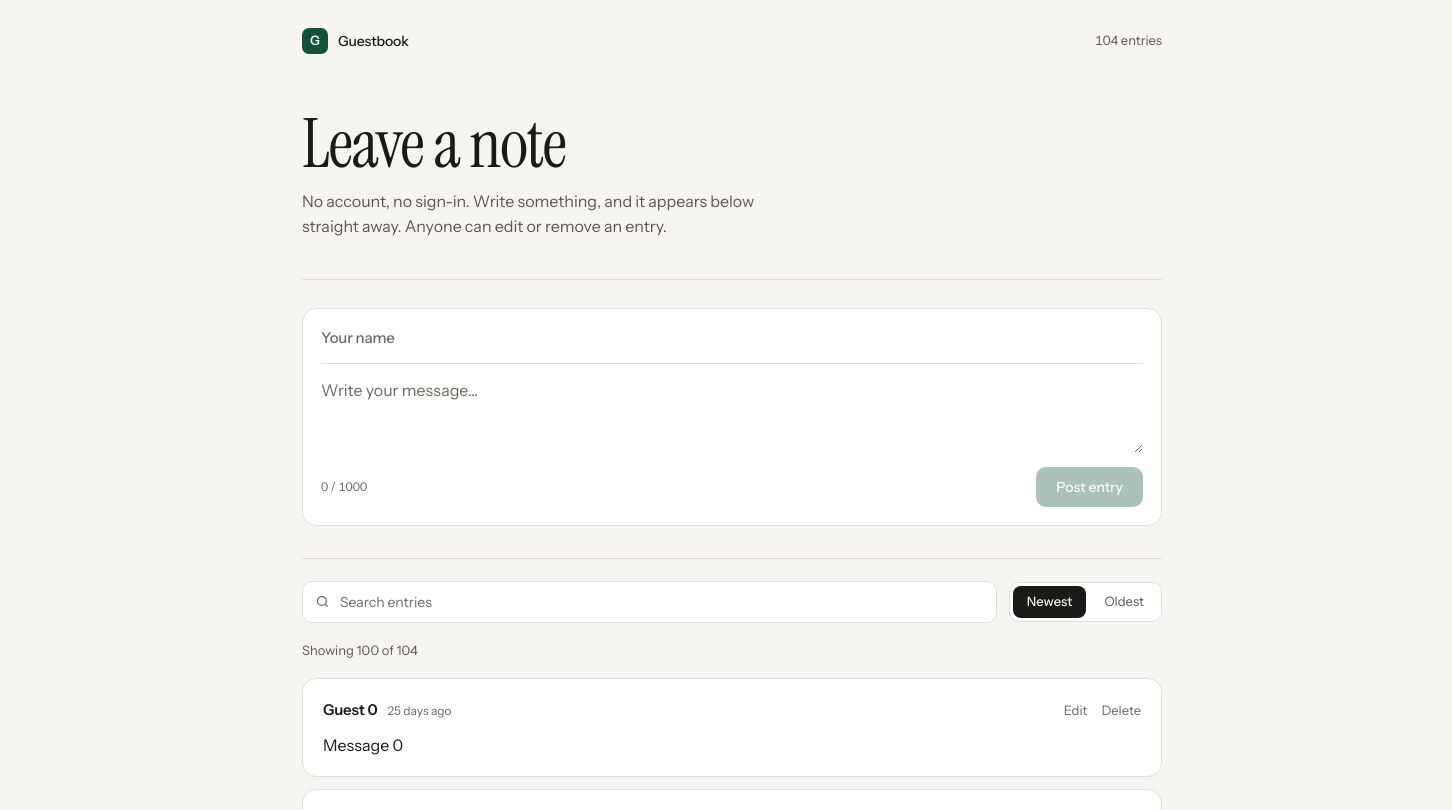
Test: past the ceiling on one request › starts the piece over when the question changes halfway down [req:CR-2609-9b1e/R-6]
Click the button "Oldest". click: (1124, 602)
box: [1090,586,1158,618]
(page scrolled)
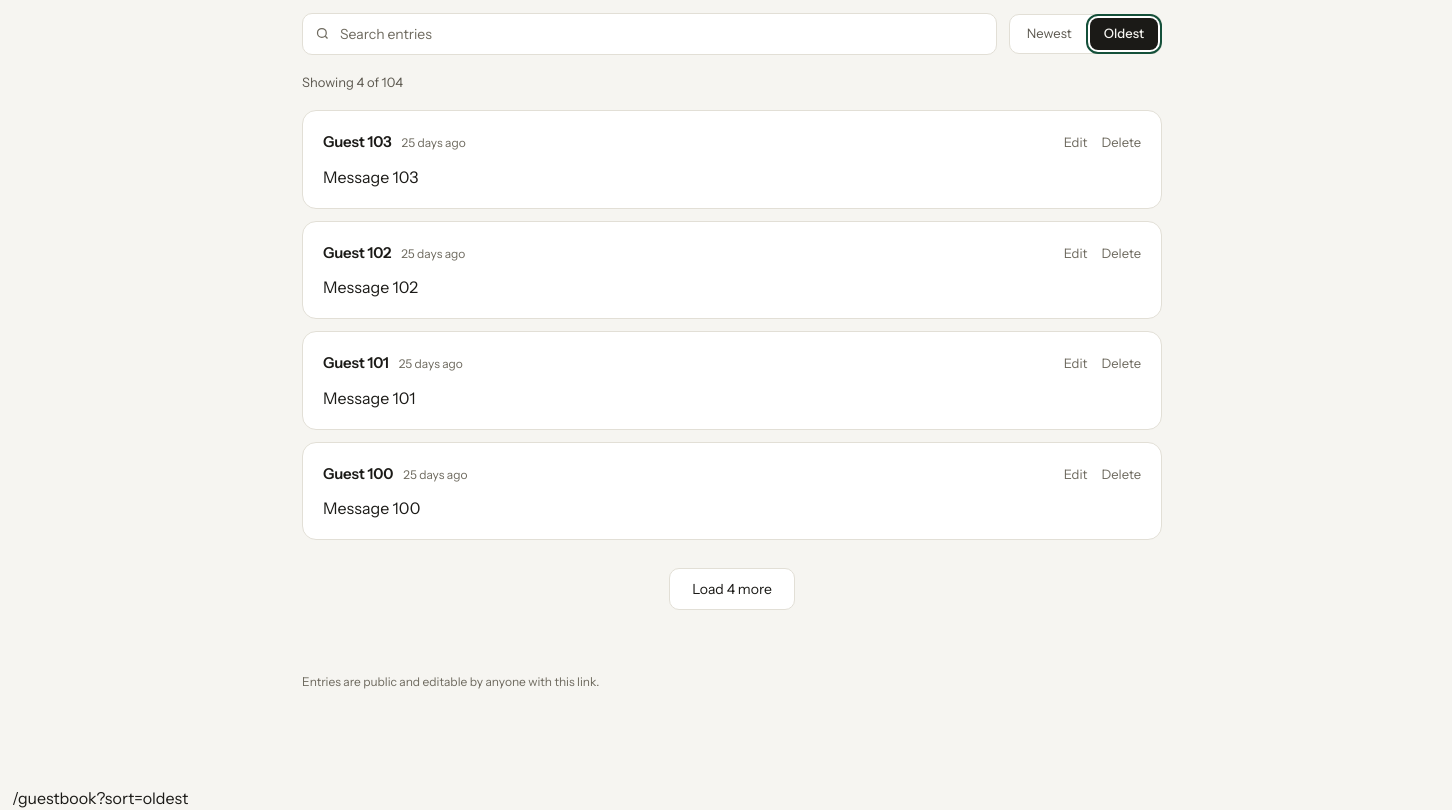
Now the text with test id "address" reads "/guestbook?sort=oldest", box [12,788,188,808]
